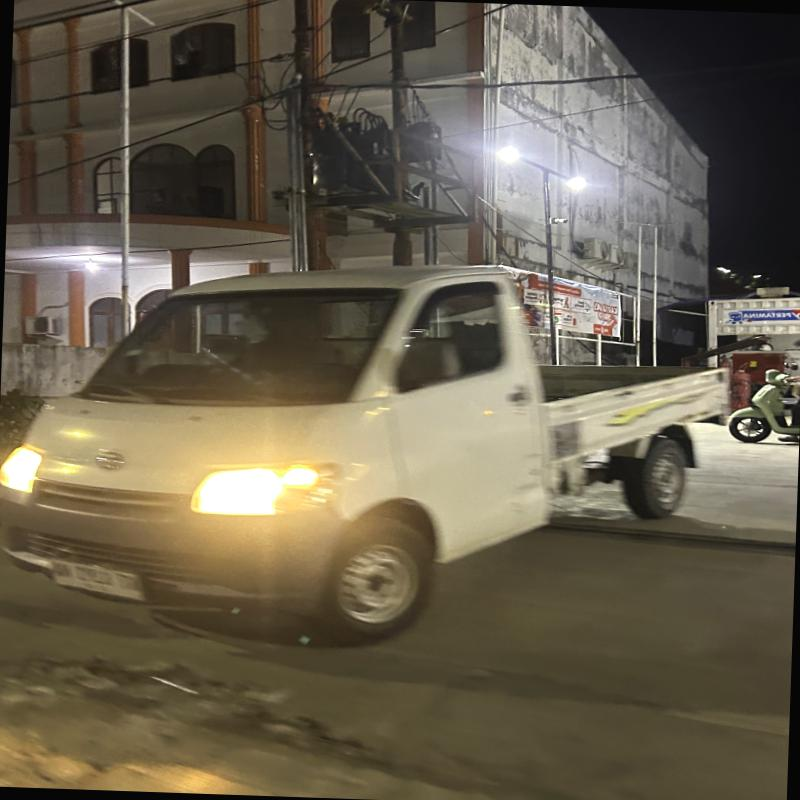license plate on a car: (34, 551, 144, 611)
